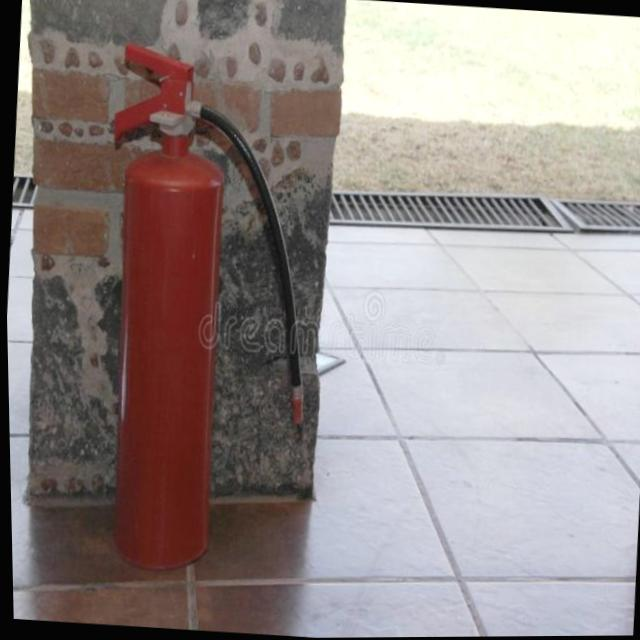FireExtinguisher: (76, 36, 330, 583)
